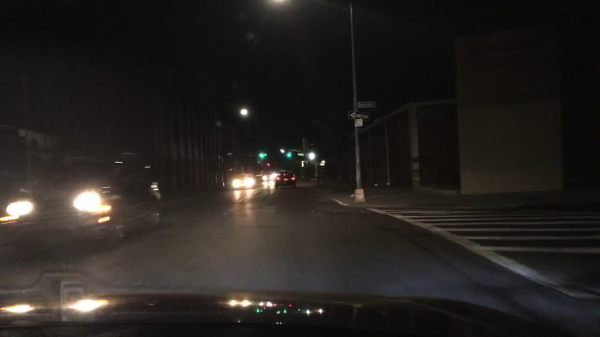car: (0, 152, 161, 245), (230, 173, 256, 189), (274, 171, 297, 188), (260, 172, 279, 182)
traffic light: (258, 150, 264, 160), (264, 162, 272, 169), (286, 150, 292, 158)
traffic sign: (346, 110, 368, 121), (357, 100, 377, 109), (352, 120, 362, 126), (296, 152, 304, 158)
